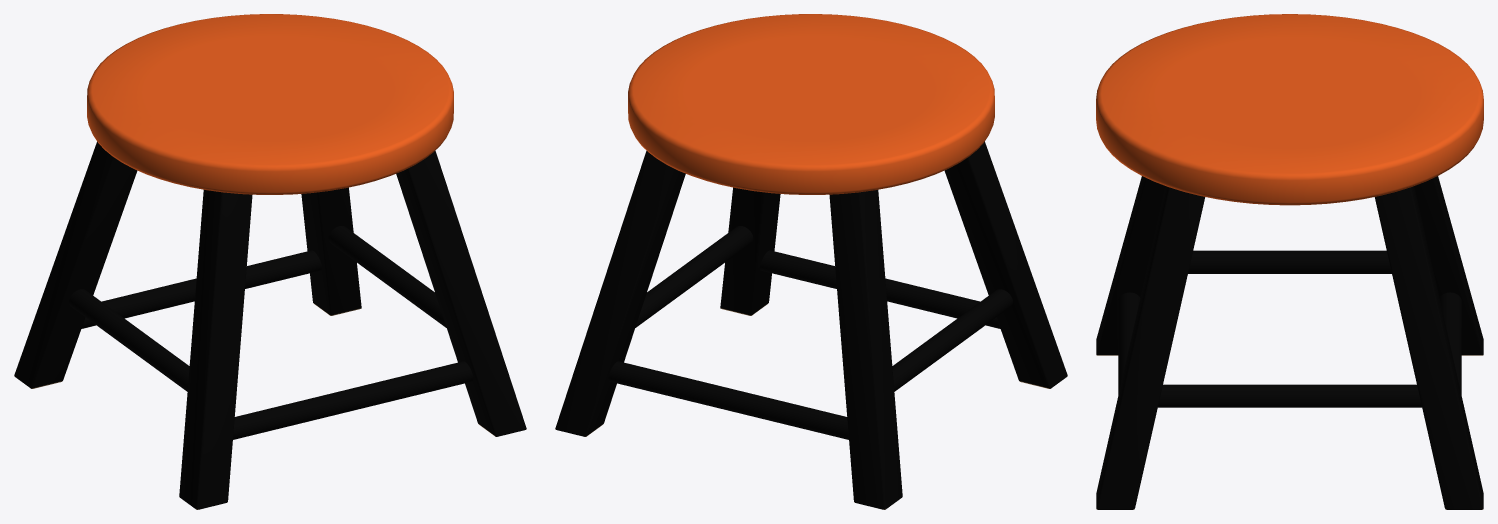
File: tabure1.glb
3 renders of one model, left to right at view 1: azimuth 30°, elevation 25°; view 2: azimuth 150°, elevation 25°; view 3: azimuth 270°, elevation 25°, orthographic. The views are drawn at different scales.
Visible parts, largest first — view 1: Stool; view 2: Stool; view 3: Stool.
Boxes of the visible parts, box(x1,y1,x2,y2) form: Stool: box(14, 14, 526, 509); Stool: box(555, 14, 1067, 509); Stool: box(1096, 14, 1483, 509).
Size of the model in its own units: 0.7133 by 0.6474 by 0.686.
Materials: 3 (1 with a texture image).
